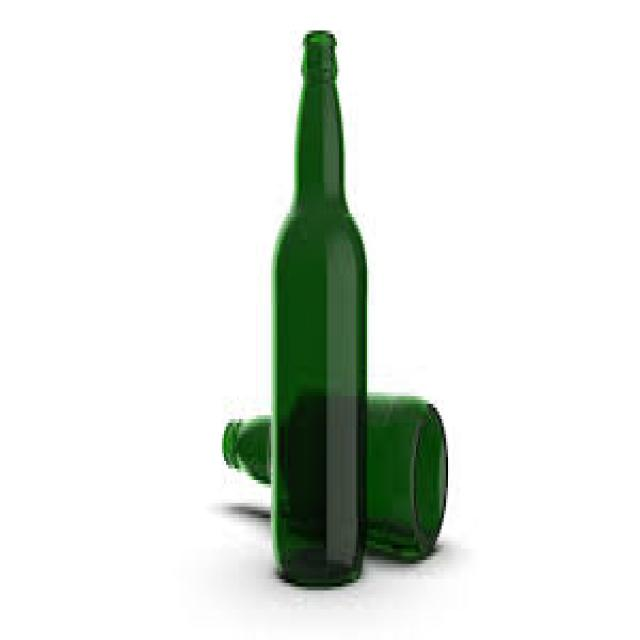glass: (269, 27, 363, 587), (220, 392, 448, 560)
